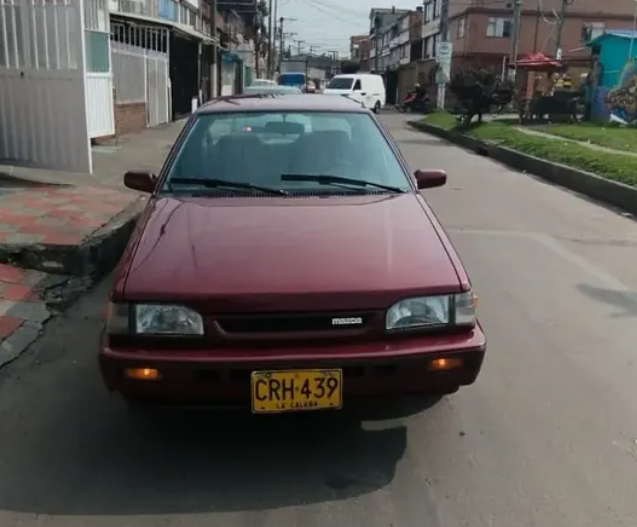placa: (248, 370, 348, 411)
